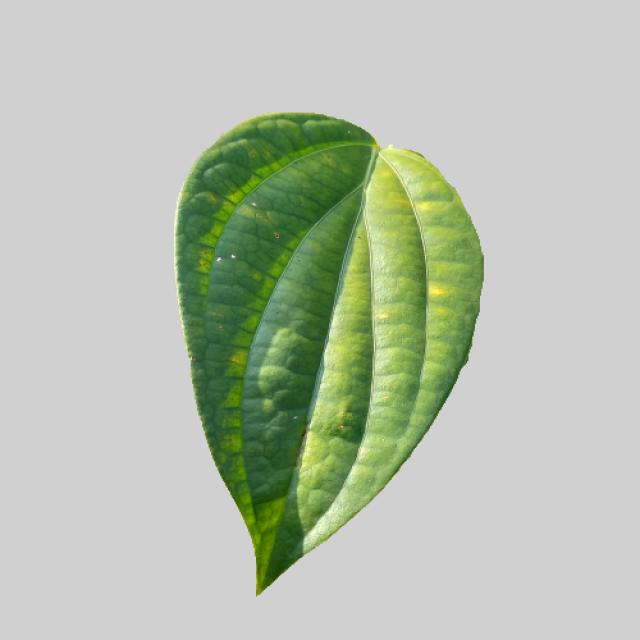healthy: (175, 82, 493, 611)
